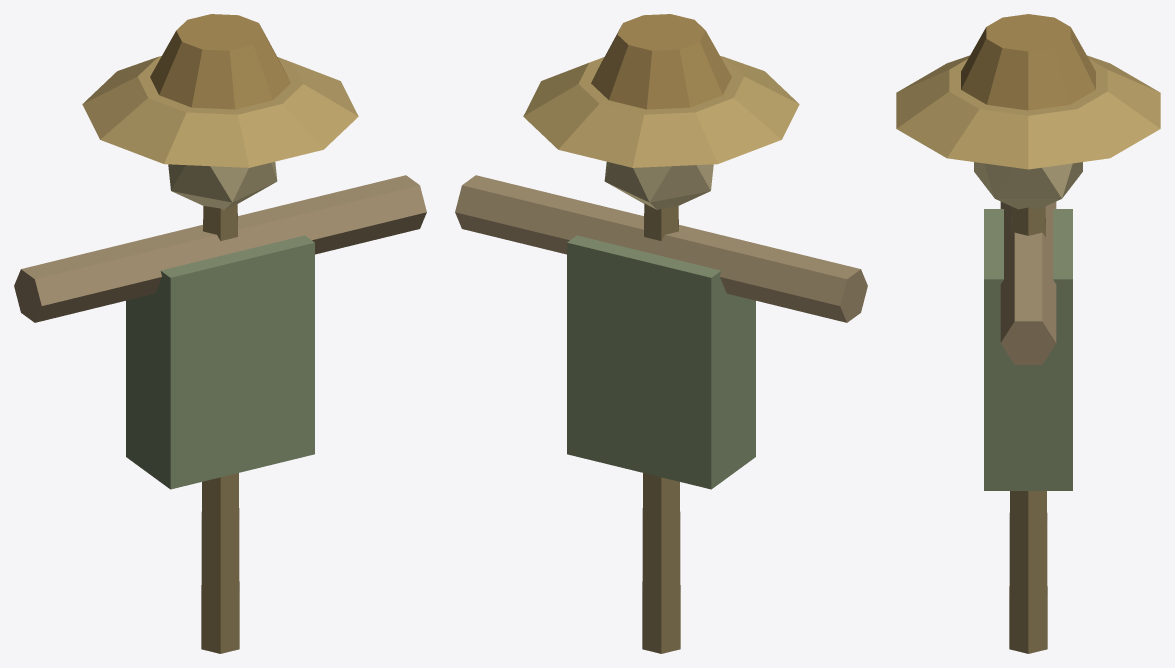
The model's file is map-exclusive-v3__farm_09.glb.
3 renders of one model, left to right at view 1: azimuth 30°, elevation 25°; view 2: azimuth 150°, elevation 25°; view 3: azimuth 270°, elevation 25°, orthographic.
Visible parts, largest first — view 1: farm_09; view 2: farm_09; view 3: farm_09.
Part boxes in pixels (left/top/right/bottom): farm_09: left=14, top=14, right=426, bottom=653; farm_09: left=455, top=14, right=867, bottom=653; farm_09: left=896, top=14, right=1160, bottom=653.
Bounding box in the file's own units: 1.6 × 2.43 × 0.9511.
